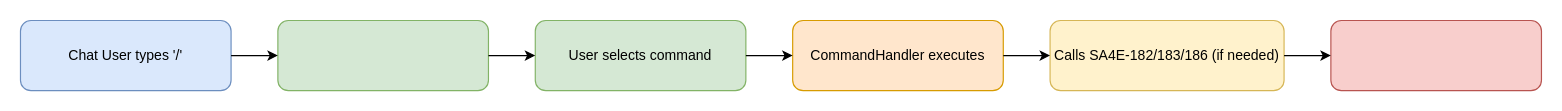
Image size: 1562x111. Some labels were removed from this diagram. Here are the shapes that lost their labels. From the top down, the centre of each, then its label:
(x=382, y=55): SlashMenuController shows menu
(x=1435, y=55): Result displayed
